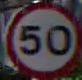Speed limit: (6, 1, 81, 76)
